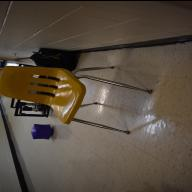cone: (124, 191, 130, 192)
cube: (30, 122, 54, 138)
